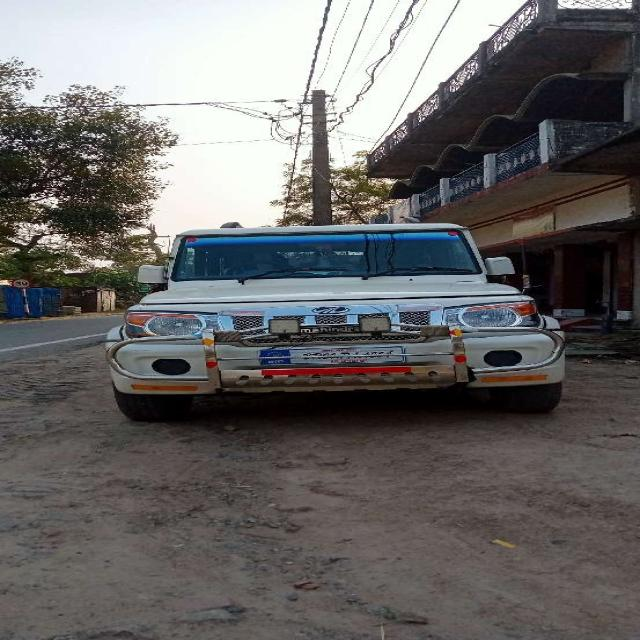light_vehicle: (102, 224, 568, 394)
